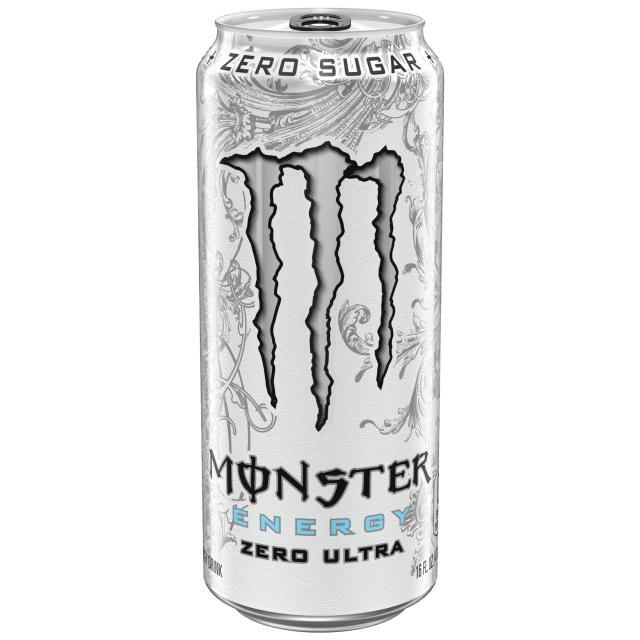Cans: (191, 8, 463, 633)
